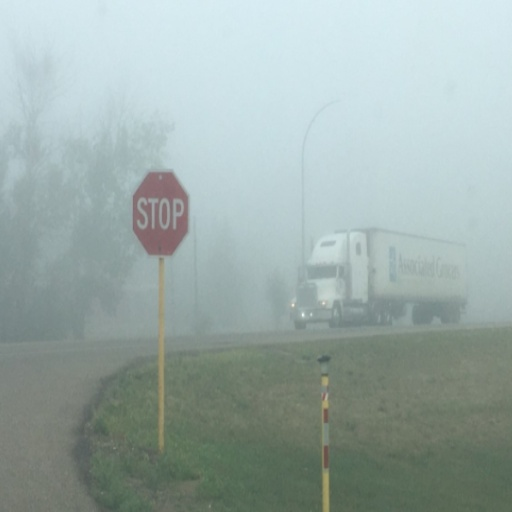Stop: (115, 164, 198, 258)
